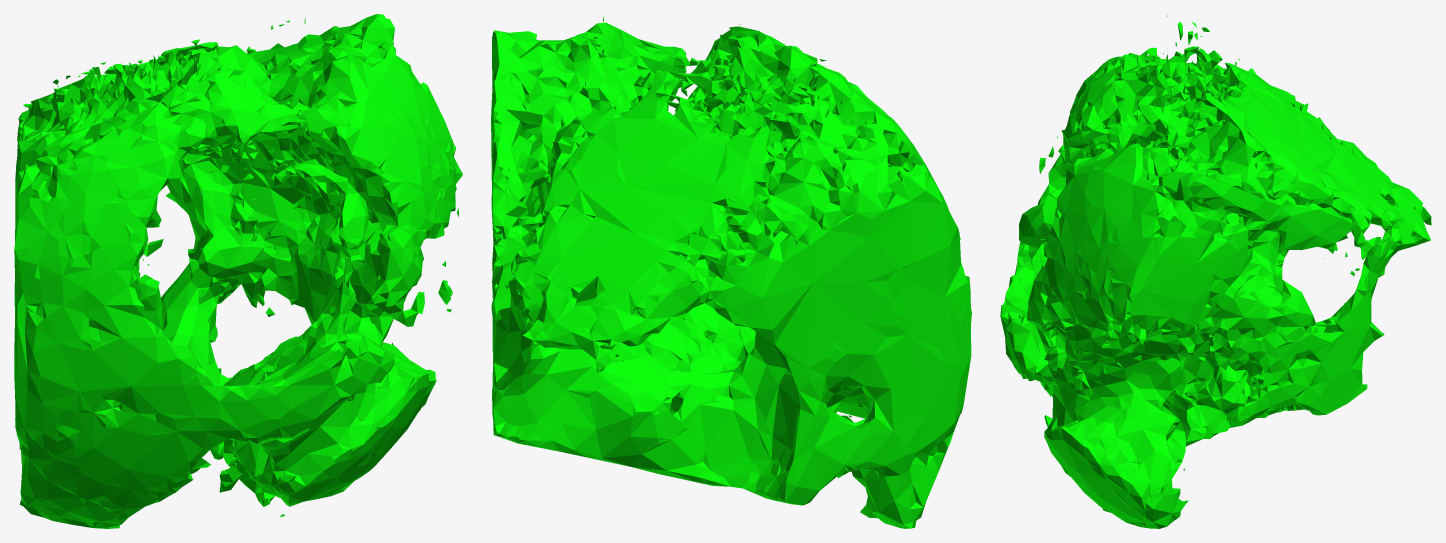
Rendered from B939XXXX-1_base_35.obj.
The picture shows the model from 3 angles, left to right: view 1: azimuth 30°, elevation 25°; view 2: azimuth 150°, elevation 25°; view 3: azimuth 270°, elevation 25°; orthographic projection. The views are drawn at different scales.
Parts seen in each view (by area): view 1: 35_base; view 2: 35_base; view 3: 35_base.
Boxes of the visible parts, box(x1,y1,x2,y2) form: 35_base: box(14, 14, 462, 528); 35_base: box(491, 16, 971, 528); 35_base: box(1000, 15, 1431, 528).
Size of the model in its own units: 218 by 212 by 203.
